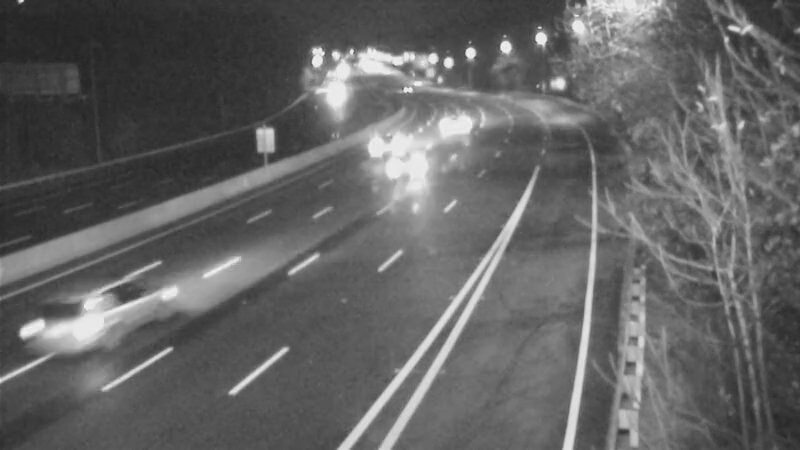vehicle: (8, 275, 118, 385), (368, 131, 448, 211), (388, 68, 438, 118), (430, 97, 480, 147), (359, 119, 409, 169), (307, 72, 357, 122)
